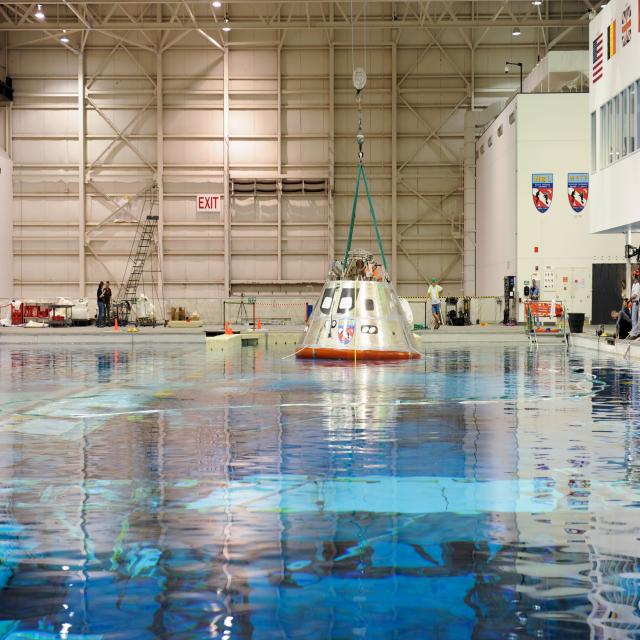Orion_capsule_mockup_(WEST)_located_on_far_end_of_pool: (295, 248, 421, 364)
